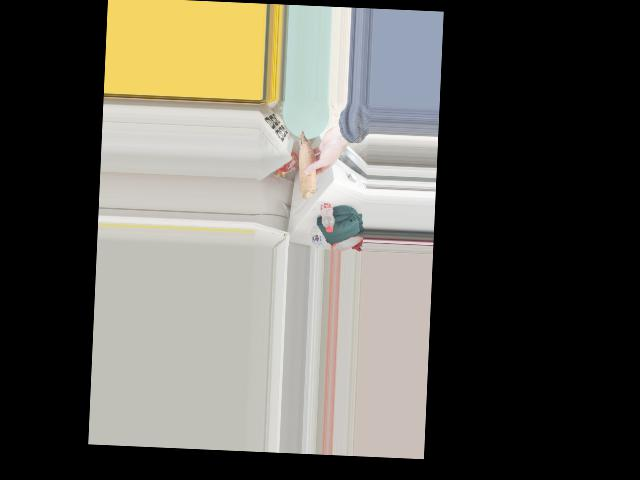sweet_potato: (291, 131, 319, 196)
